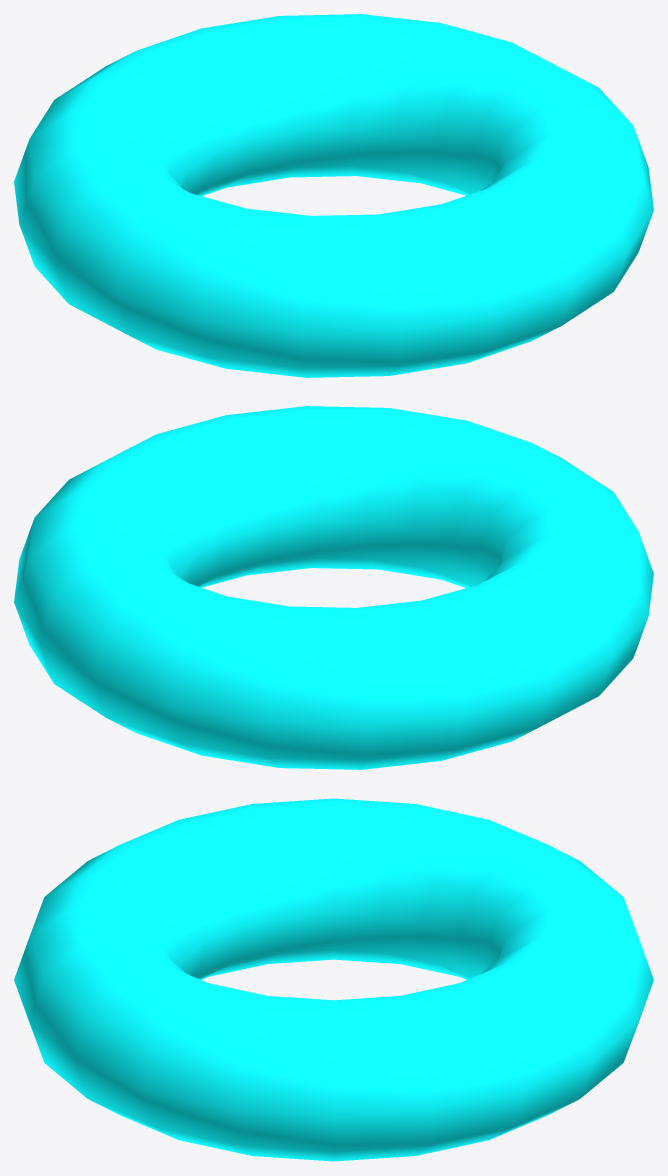
The model's file is BaseToroids.005.glb.
3 renders of one model, top to bottom at view 1: azimuth 30°, elevation 25°; view 2: azimuth 150°, elevation 25°; view 3: azimuth 270°, elevation 25°, orthographic.
Parts seen in each view (by area): view 1: BaseToroids.005; view 2: BaseToroids.005; view 3: BaseToroids.005.
Boxes of the visible parts, left/top/right/bottom form: BaseToroids.005: left=14, top=14, right=653, bottom=377; BaseToroids.005: left=14, top=406, right=653, bottom=769; BaseToroids.005: left=14, top=798, right=653, bottom=1161.
Size of what is drawn, in the model's own units: 0.9438 by 0.2278 by 0.9438.
1 material, 1 textured.
